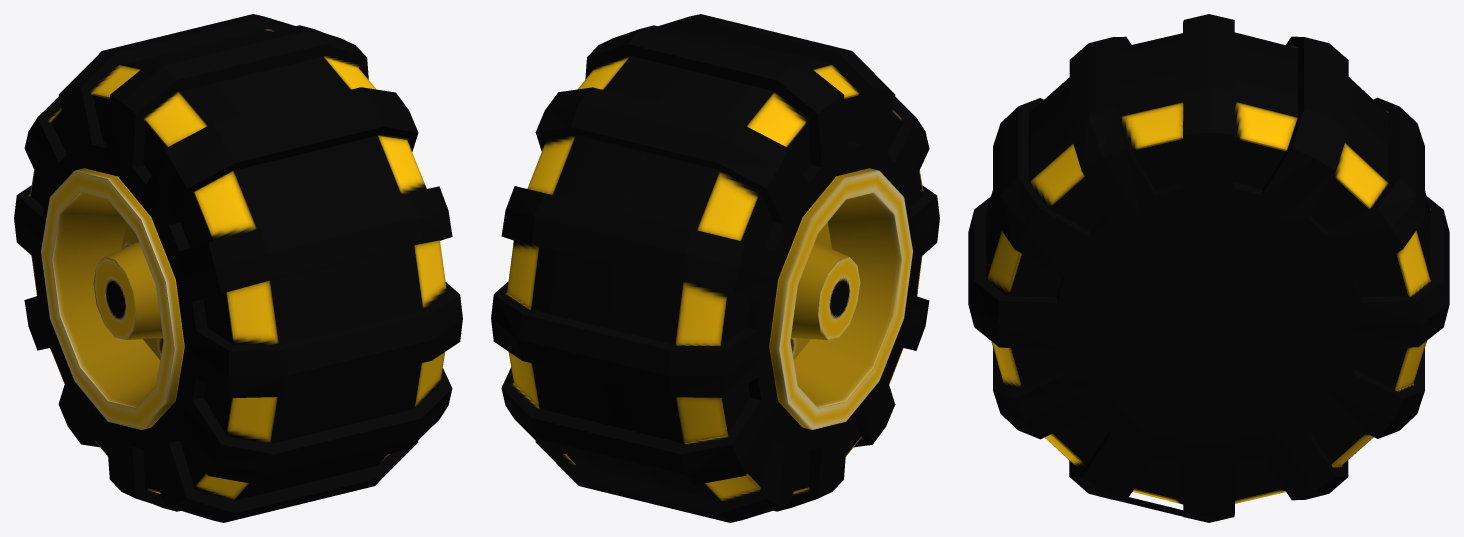
The model's file is wheel_bulldozer.FBX.
3 views of the same model, side by side, from view 1: azimuth 30°, elevation 25°; view 2: azimuth 150°, elevation 25°; view 3: azimuth 270°, elevation 25° (orthographic).
Parts seen in each view (by area): view 1: wheel_bul; view 2: wheel_bul; view 3: wheel_bul.
Boxes of the visible parts, x1,y1,x2,y2 form: wheel_bul: (14,14,462,522); wheel_bul: (491,14,939,522); wheel_bul: (968,14,1449,522).
Bounding box in the file's own units: 0.1103 × 0.1853 × 0.1853.
